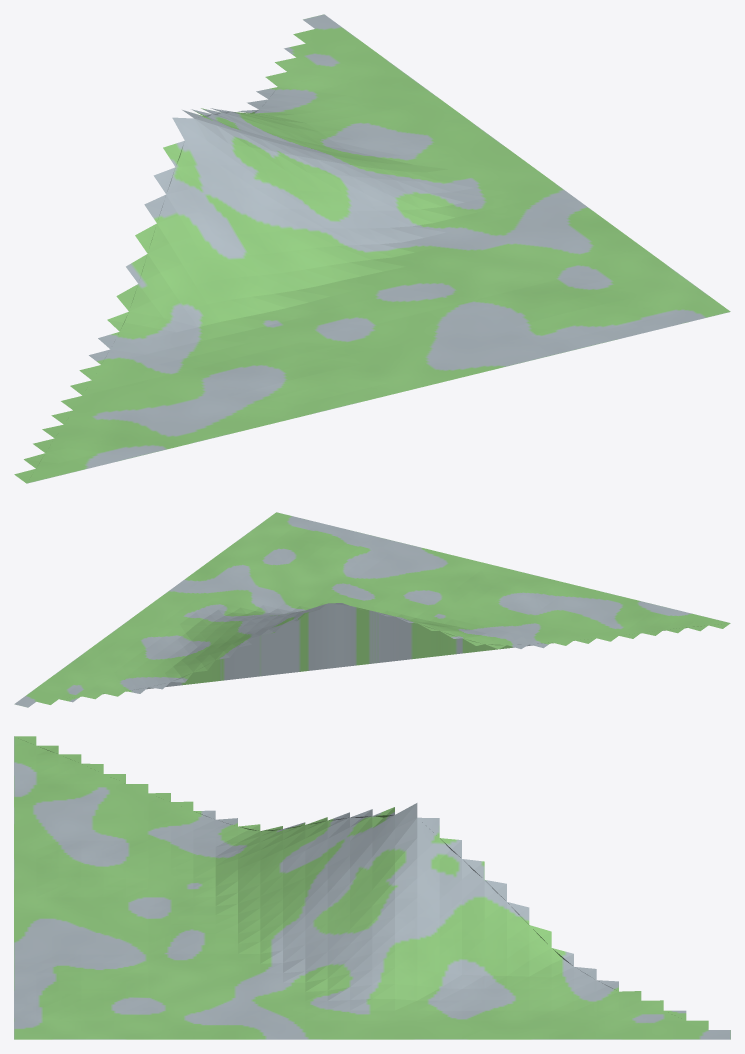
Rendered from Grass_RockyGround_11_NE.obj.
The picture shows the model from 3 angles, top to bottom: view 1: azimuth 30°, elevation 25°; view 2: azimuth 150°, elevation 25°; view 3: azimuth 270°, elevation 25°; orthographic projection. The views are drawn at different scales.
Bounding box in the file's own units: 10 × 1.46 × 10.
1 material, 1 textured.
